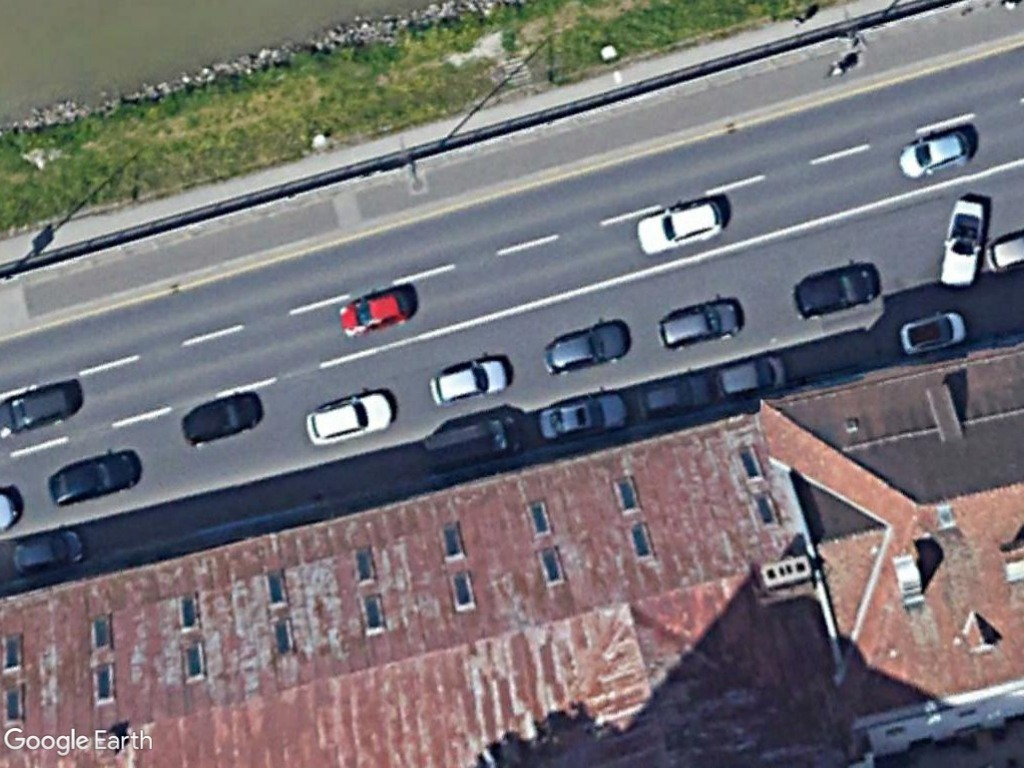car: (46, 440, 147, 511), (537, 312, 638, 381), (629, 192, 733, 259), (302, 381, 398, 451), (787, 258, 885, 324), (534, 385, 635, 446), (176, 384, 264, 452), (654, 293, 747, 357), (331, 277, 417, 344), (426, 348, 515, 411), (0, 375, 81, 439), (893, 122, 975, 185), (4, 521, 87, 581), (632, 367, 724, 419), (711, 348, 793, 405)
van: (417, 407, 530, 481)
